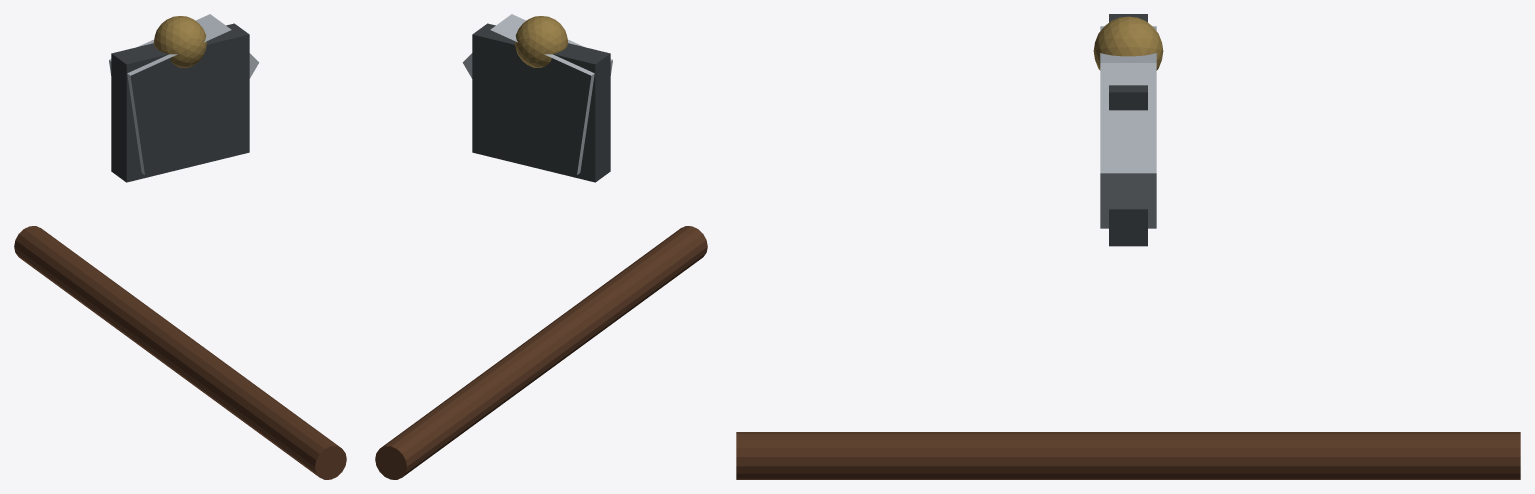
Rendered from battle_axe.glb.
3 views of the same model, side by side, from view 1: azimuth 30°, elevation 25°; view 2: azimuth 150°, elevation 25°; view 3: azimuth 270°, elevation 25° (orthographic). The views are drawn at different scales.
Visible parts, largest first — view 1: battle_axe_1, battle_axe_0, battle_axe_3, battle_axe_2; view 2: battle_axe_1, battle_axe_0, battle_axe_3, battle_axe_2; view 3: battle_axe_0, battle_axe_2, battle_axe_1, battle_axe_3.
Boxes of the visible parts, x1=… form: battle_axe_1: x1=111, y1=23, x2=249, y2=182; battle_axe_0: x1=14, y1=226, x2=346, y2=479; battle_axe_3: x1=153, y1=16, x2=207, y2=67; battle_axe_2: x1=109, y1=14, x2=259, y2=174; battle_axe_1: x1=472, y1=23, x2=610, y2=182; battle_axe_0: x1=375, y1=226, x2=707, y2=479; battle_axe_3: x1=514, y1=16, x2=568, y2=67; battle_axe_2: x1=462, y1=14, x2=612, y2=174; battle_axe_0: x1=736, y1=432, x2=1520, y2=479; battle_axe_2: x1=1100, y1=26, x2=1156, y2=228; battle_axe_1: x1=1109, y1=14, x2=1147, y2=246; battle_axe_3: x1=1093, y1=16, x2=1163, y2=70.
Bounding box in the file's own units: 1.05 × 2.32 × 3.6.
